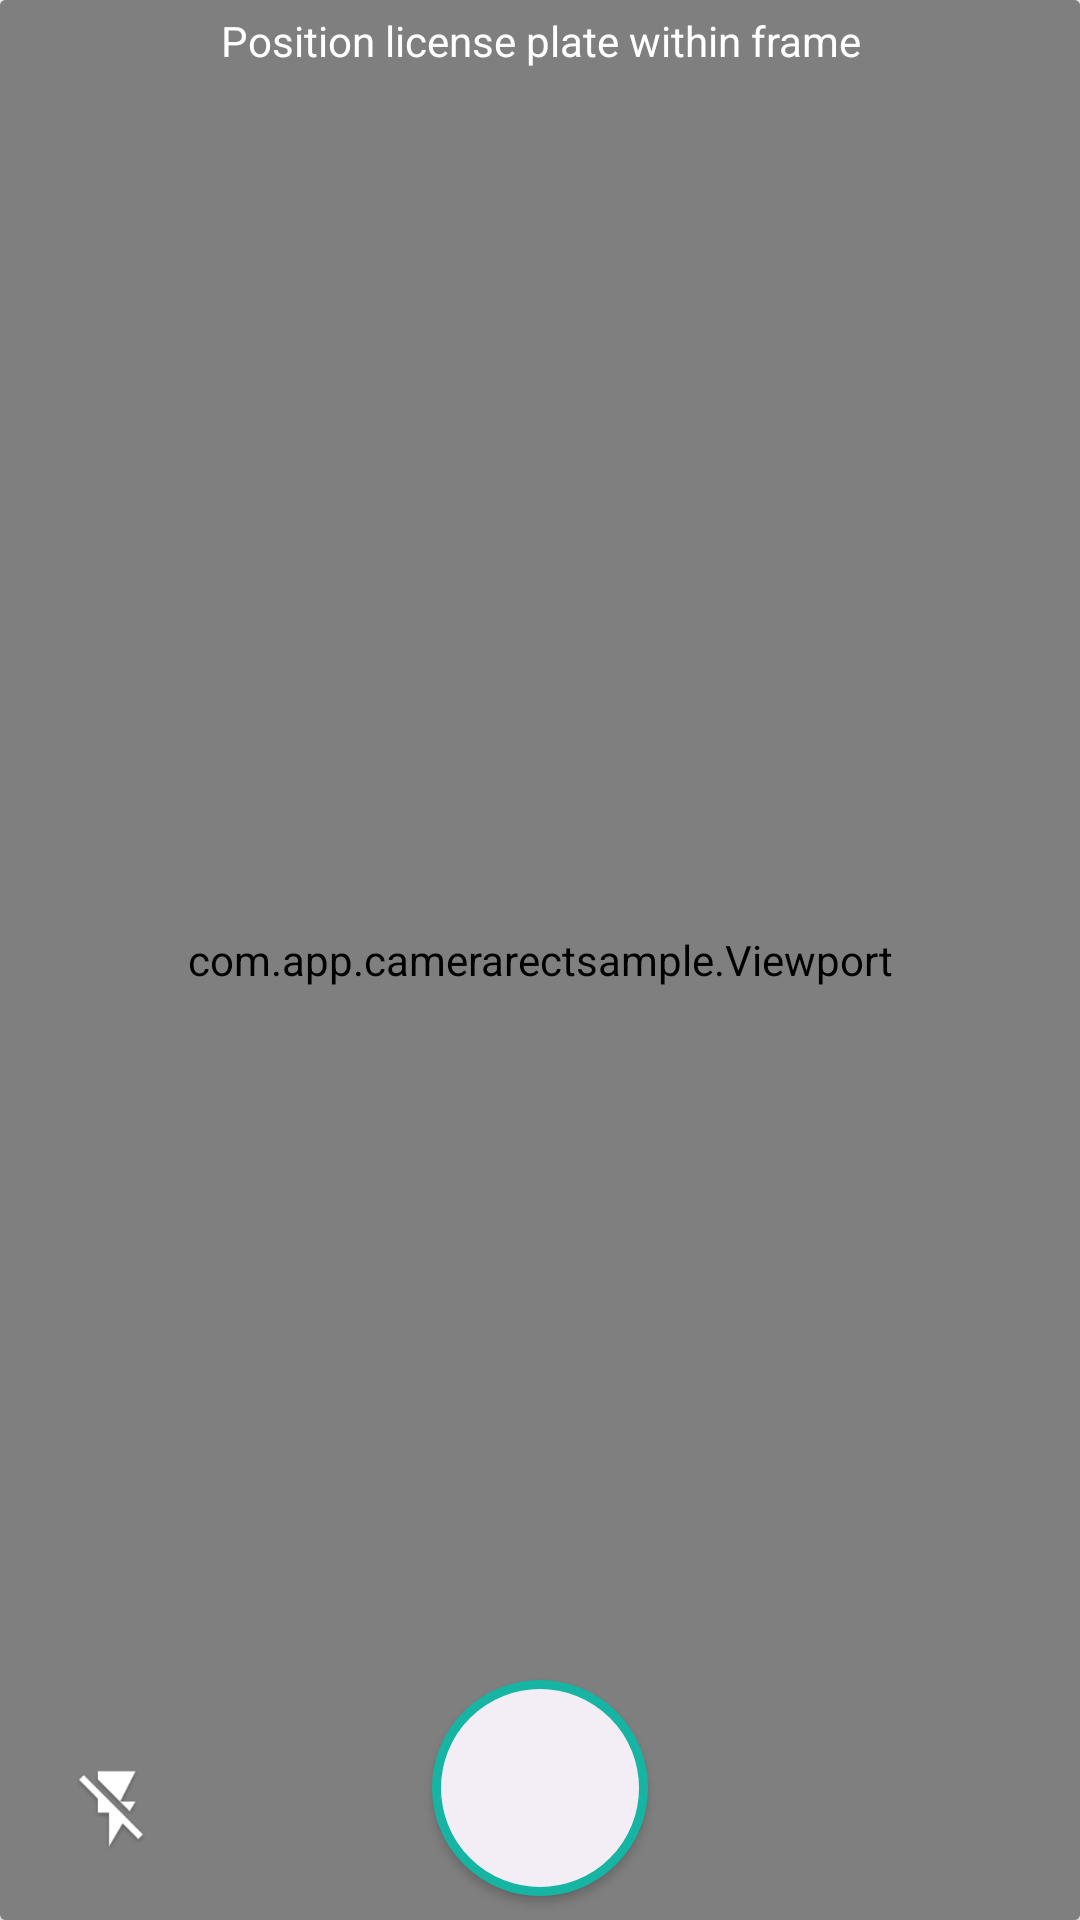

Where to tap for icons on this 1080x1920 app screen, as (x=x, y=y):
flash off: (x=111, y=1808)
